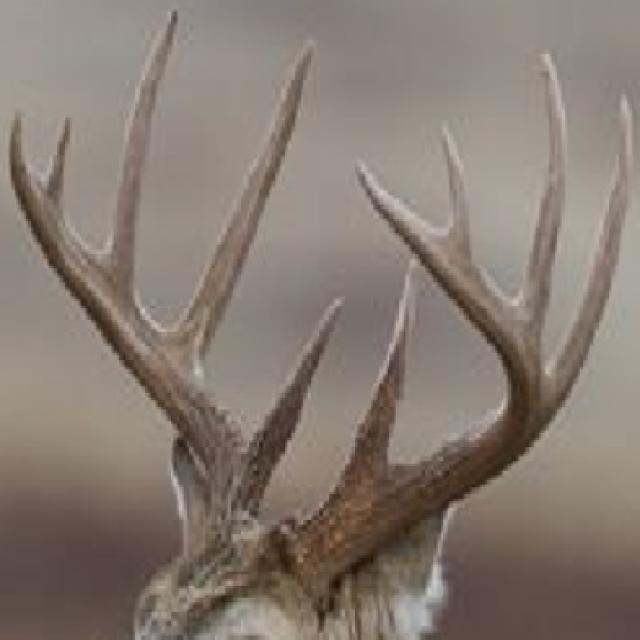L-F: (263, 156, 541, 631)
L-G1: (334, 260, 421, 487)
L-G2: (537, 80, 635, 445)
L-G3: (509, 51, 568, 354)
L-G4: (437, 116, 472, 264)
R-G1: (245, 293, 348, 494)
R-G2: (163, 39, 317, 385)
R-G3: (95, 4, 181, 301)
R-G4: (36, 111, 73, 221)
